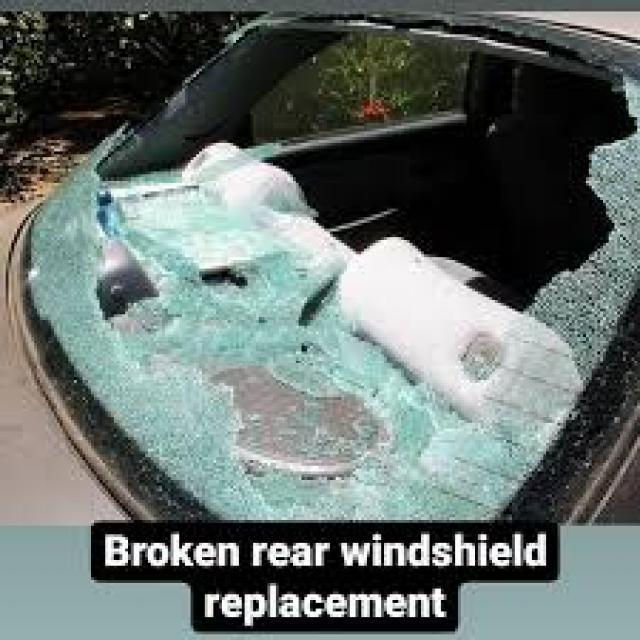damaged-rear-window: (29, 10, 631, 522)
